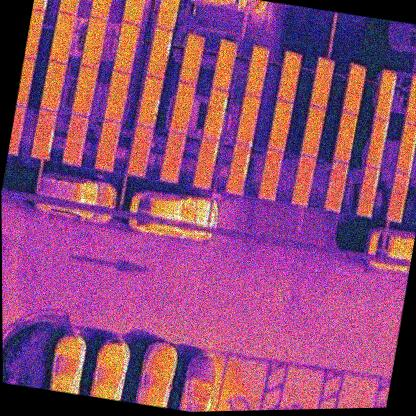Diode: (29, 108, 58, 162), (146, 25, 174, 78), (192, 138, 219, 191), (355, 165, 381, 218), (225, 142, 251, 195), (363, 116, 389, 169), (374, 69, 397, 121)
Hotspot: (201, 87, 229, 141), (136, 74, 163, 130), (235, 94, 261, 147)
Normal: (47, 10, 76, 65), (69, 64, 98, 117), (79, 17, 108, 70), (126, 123, 154, 177), (169, 80, 196, 136), (102, 69, 130, 123), (178, 31, 205, 86), (257, 147, 284, 201), (94, 118, 121, 172), (62, 113, 89, 166), (266, 100, 293, 153), (39, 60, 66, 113), (112, 21, 139, 74), (322, 159, 348, 213), (300, 104, 326, 158), (211, 39, 238, 91), (244, 44, 269, 100), (290, 154, 316, 207), (276, 50, 302, 103), (160, 131, 186, 182), (332, 111, 357, 164), (309, 57, 334, 108), (341, 64, 365, 114), (386, 170, 409, 221), (394, 121, 416, 173), (404, 74, 416, 126), (121, 0, 146, 24), (90, 0, 115, 19), (57, 0, 83, 15)
